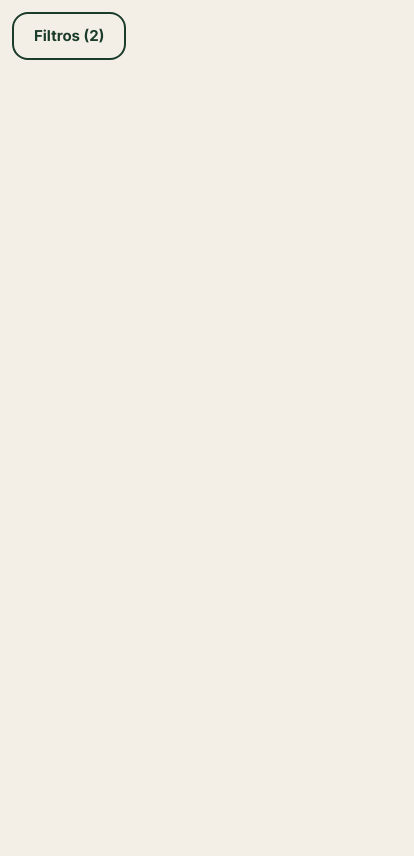
Test: FilterPanel › o botão "Filtros" mostra quantos estão ativos e abre o painel no celular
Click the button "Filtros (2)" at [69, 36], box [12,12,126,60]
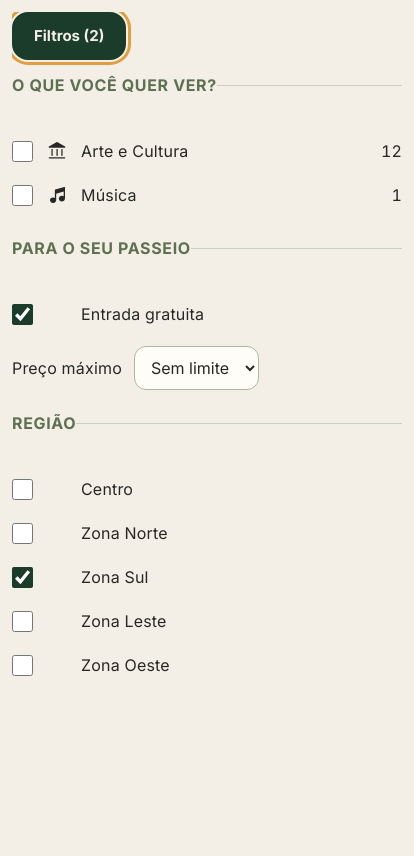
Expected: the button "Filtros (2)" is expanded, [12,12,126,60]
